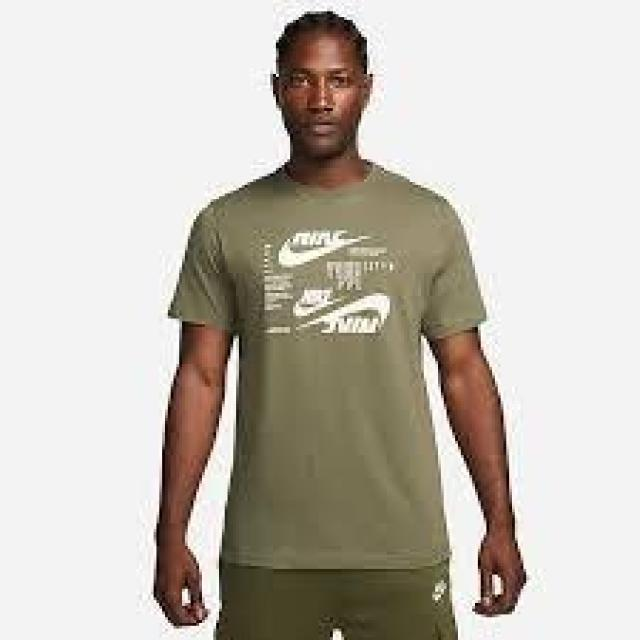Tshirt: (164, 159, 514, 575)
